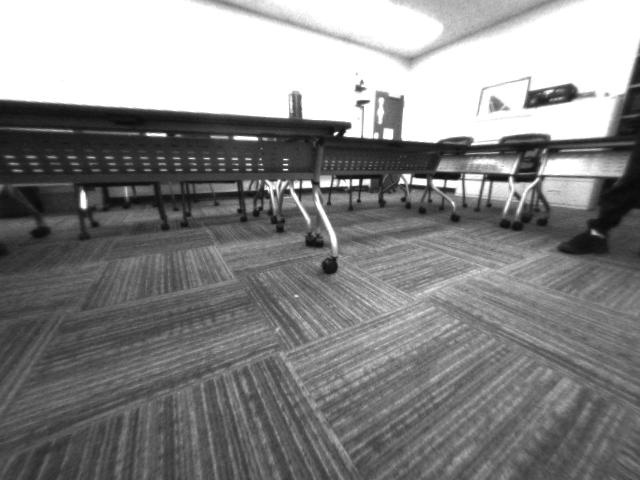can: (285, 86, 307, 117)
